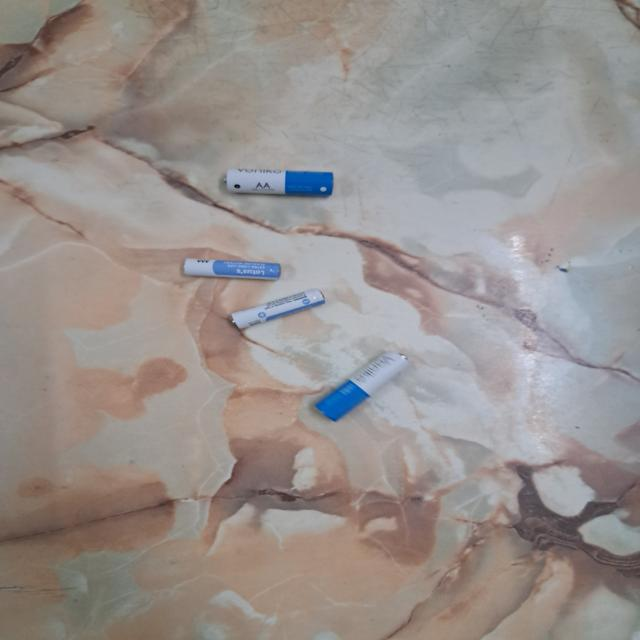battery: (313, 348, 413, 424), (230, 286, 328, 331), (222, 165, 336, 198), (182, 256, 284, 282)
